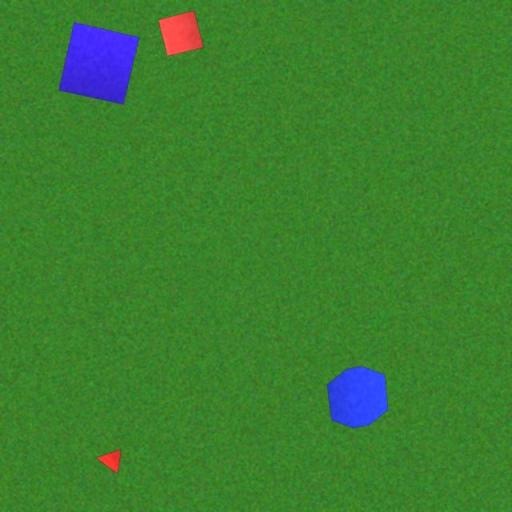BLUE_SQUARE: (58, 22, 140, 104)
RED_SQUARE: (158, 10, 204, 56)
